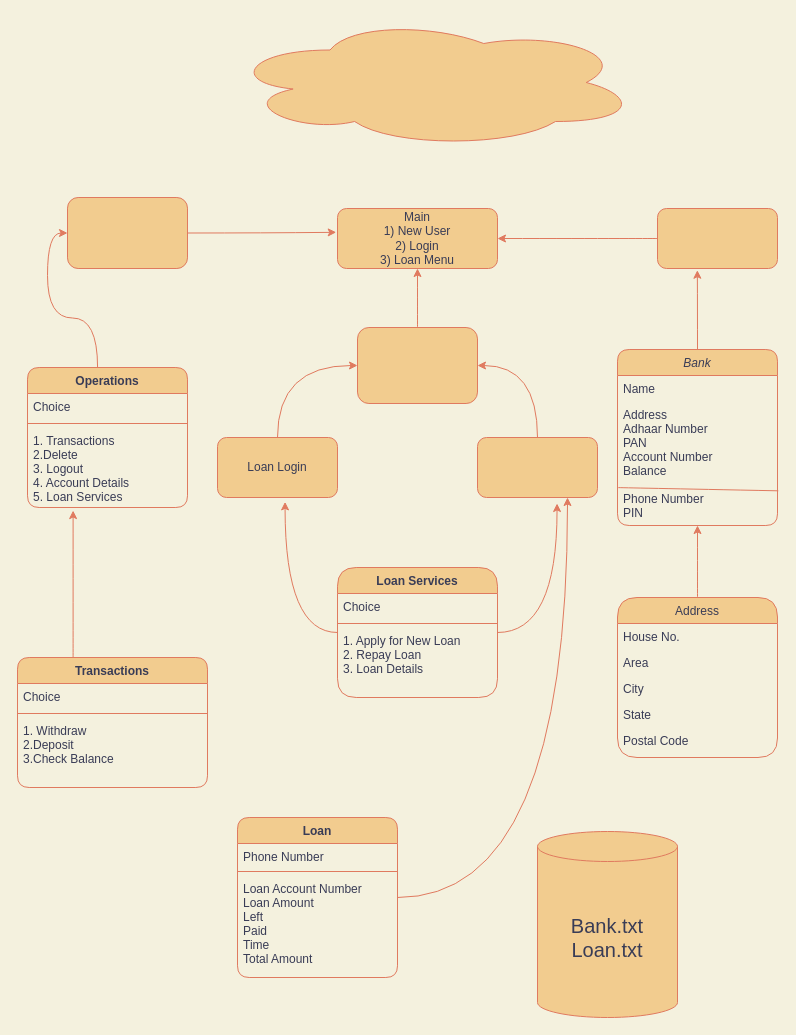
Some shapes in this 796 by 1035 pixel diagram are drawn without their labels. Each missing label, with the centre of its shape:
BANK MANAGEMENT SYSTEM: (432,82)
Loan Menu 1) New Loan User 2) Existing Loan Account: (417,365)
Loan New User: (537,467)
Login: (127,232)
New User: (717,238)
